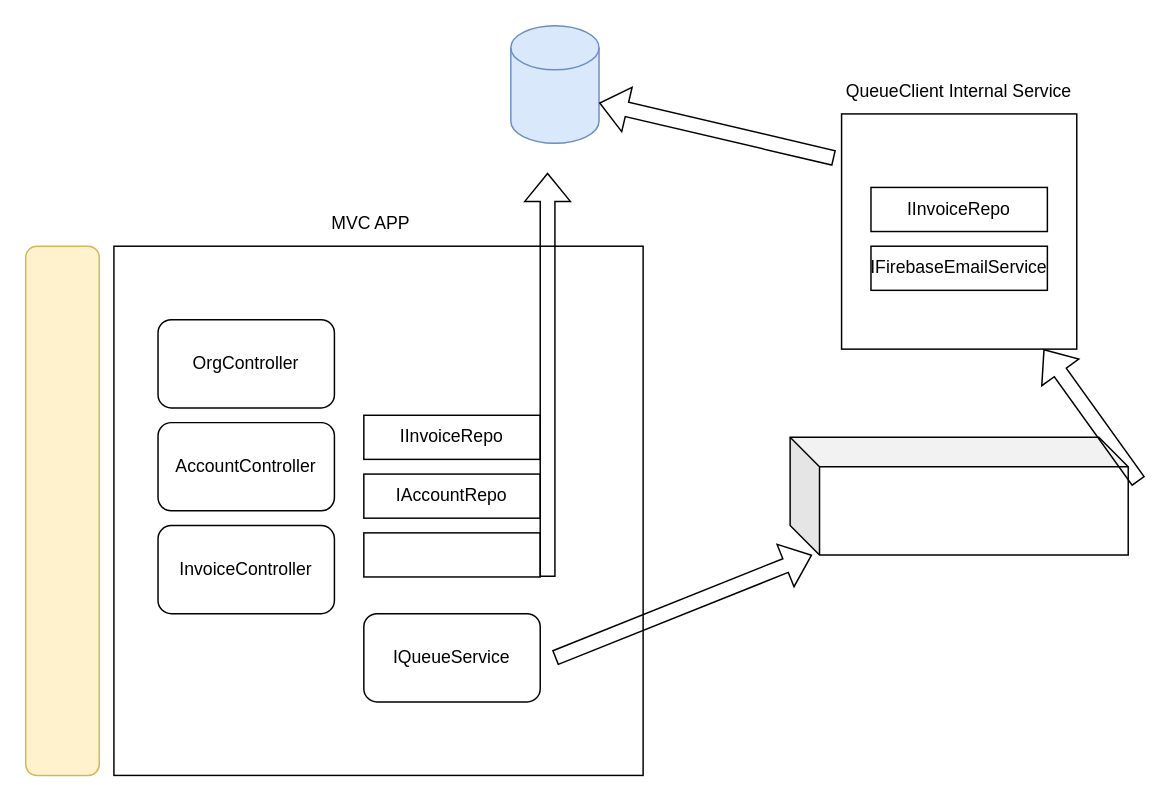
Some shapes in this 1170 by 801 pixel diagram are drawn without their labels. The centre of each missing label's shape, as x and y in pixels:
IOrganizationRepo: pixel 451 554
RabbitMQ Server: pixel 958 495
UI: pixel 61 510
